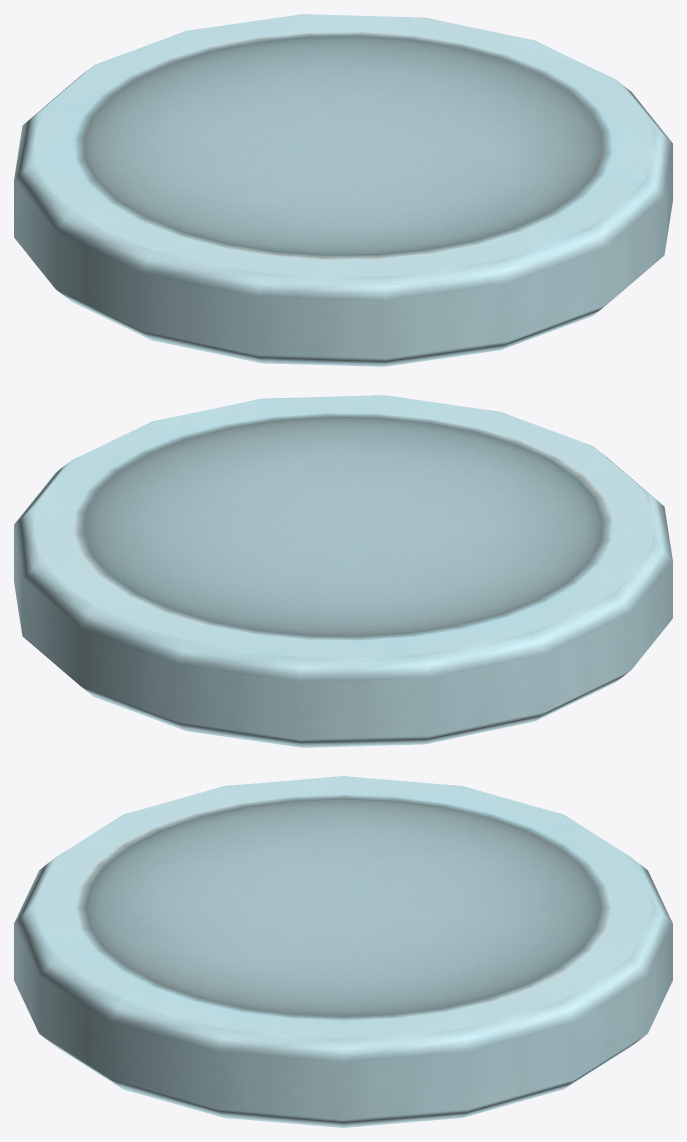
Rendered from coin1-2tex.fbx.
3 renders of one model, top to bottom at view 1: azimuth 30°, elevation 25°; view 2: azimuth 150°, elevation 25°; view 3: azimuth 270°, elevation 25°, orthographic.
Parts seen in each view (by area): view 1: coin1-2tex; view 2: coin1-2tex; view 3: coin1-2tex.
Part boxes in pixels (x1=…): coin1-2tex: x1=14, y1=14, x2=672, y2=366; coin1-2tex: x1=14, y1=395, x2=672, y2=747; coin1-2tex: x1=14, y1=776, x2=672, y2=1127.
Bounding box in the file's own units: 0.2999 × 0.0445 × 0.2999.
